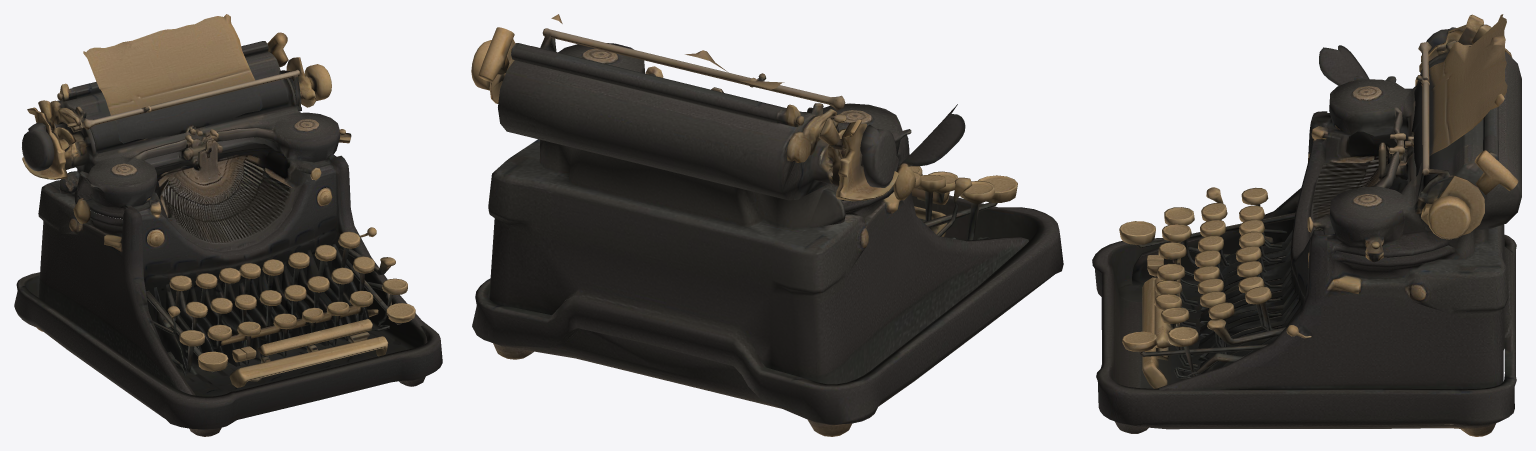
Rendered from typewriter.glb.
3 renders of one model, left to right at view 1: azimuth 30°, elevation 25°; view 2: azimuth 150°, elevation 25°; view 3: azimuth 270°, elevation 25°, orthographic. The views are drawn at different scales.
Visible parts, largest first — view 1: tripo_7e02a957_9a8d_4bb5_86b1_5976c74bc0ec; view 2: tripo_7e02a957_9a8d_4bb5_86b1_5976c74bc0ec; view 3: tripo_7e02a957_9a8d_4bb5_86b1_5976c74bc0ec.
Part boxes in pixels (x1=…): tripo_7e02a957_9a8d_4bb5_86b1_5976c74bc0ec: x1=14, y1=14, x2=442, y2=436; tripo_7e02a957_9a8d_4bb5_86b1_5976c74bc0ec: x1=471, y1=14, x2=1063, y2=436; tripo_7e02a957_9a8d_4bb5_86b1_5976c74bc0ec: x1=1092, y1=14, x2=1521, y2=436.
Size of the model in its own units: 0.9858 by 0.814 by 0.9995.
1 material, 1 textured.
